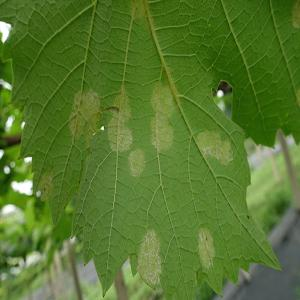Folha: (0, 0, 298, 298)
Fungo: (149, 81, 175, 151), (105, 90, 133, 153), (68, 88, 100, 140), (136, 228, 162, 290), (196, 128, 234, 168), (68, 90, 84, 140), (197, 226, 215, 270), (36, 168, 54, 202), (127, 148, 146, 178), (215, 138, 234, 166), (118, 124, 132, 152), (290, 0, 300, 29)
